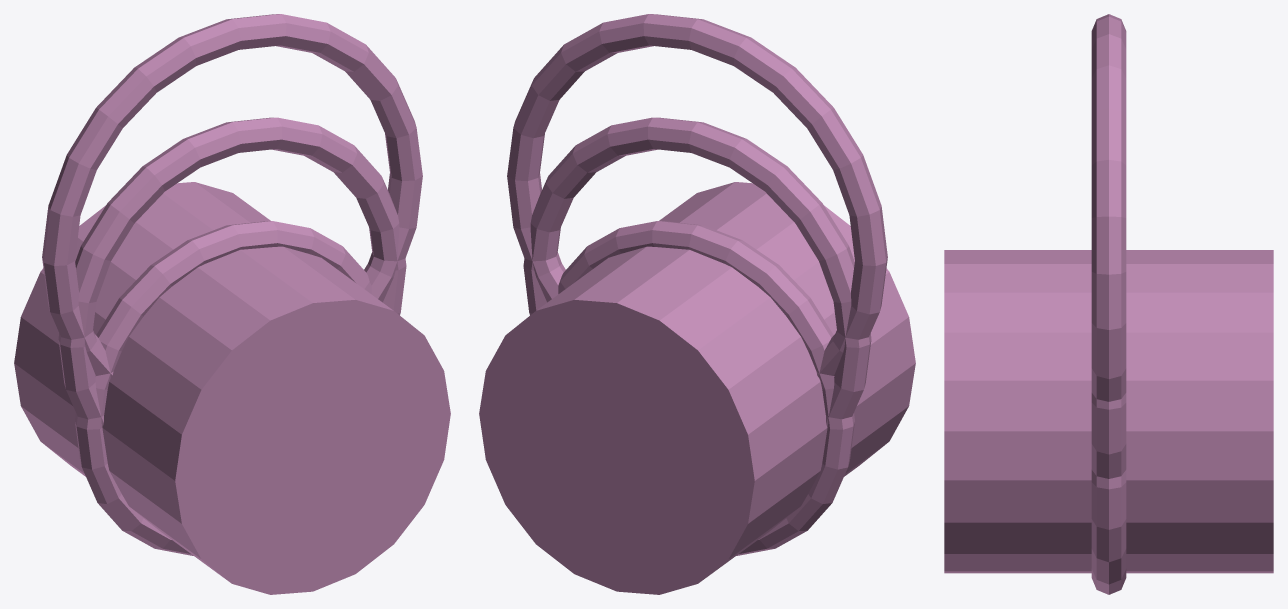
File: food_049.glb
3 views of the same model, side by side, from view 1: azimuth 30°, elevation 25°; view 2: azimuth 150°, elevation 25°; view 3: azimuth 270°, elevation 25° (orthographic). The views are drawn at different scales.
Parts seen in each view (by area): view 1: world; view 2: world; view 3: world.
Part boxes in pixels (left/top/right/bottom): world: left=14, top=14, right=450, bottom=594; world: left=479, top=14, right=915, bottom=594; world: left=944, top=14, right=1273, bottom=594.
Size of the model in its own units: 1.15 by 1.55 by 0.85.
